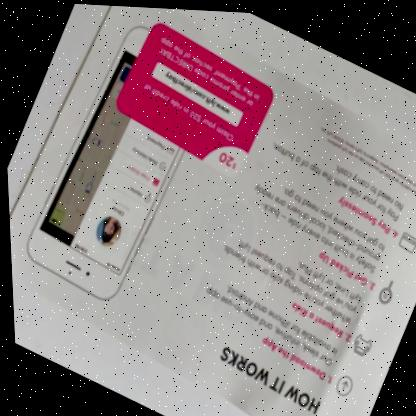Paper: (7, 4, 416, 416)
